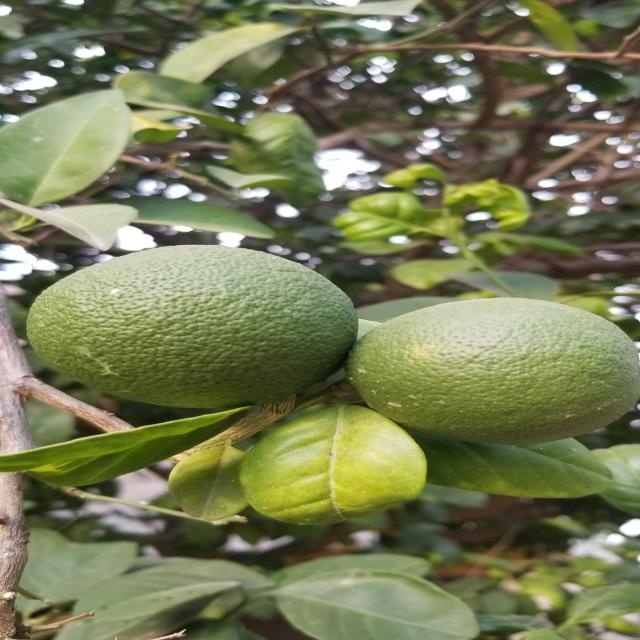agrume: (23, 239, 359, 409), (349, 292, 640, 446)
